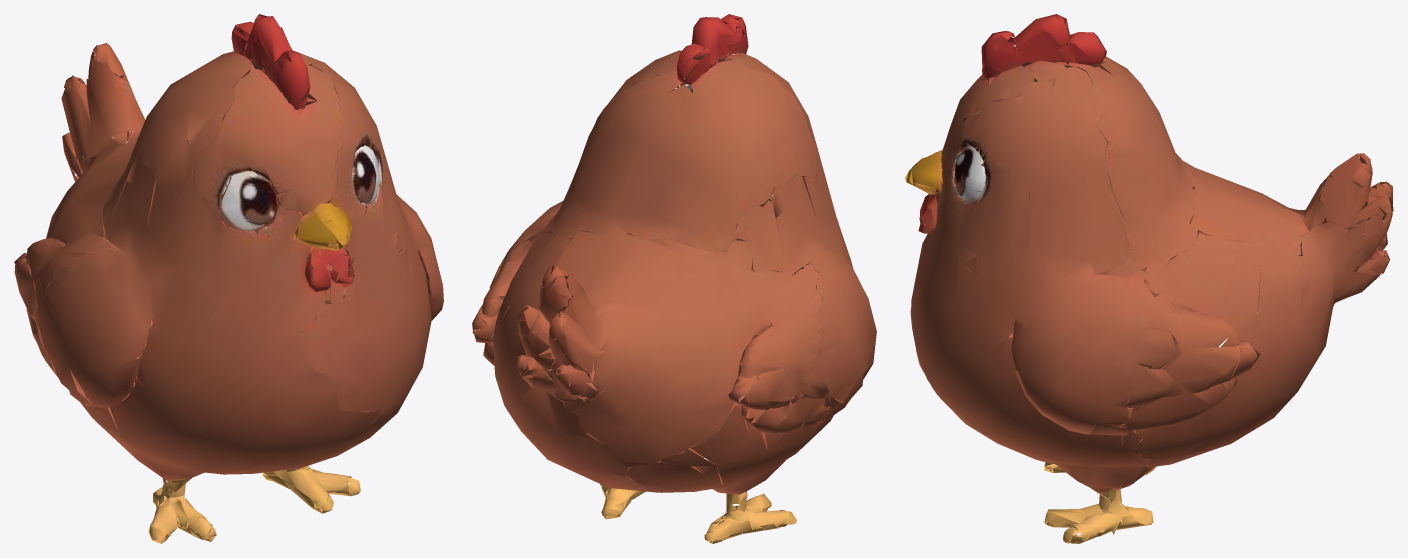
File: hen.glb
3 views of the same model, side by side, from view 1: azimuth 30°, elevation 25°; view 2: azimuth 150°, elevation 25°; view 3: azimuth 270°, elevation 25° (orthographic). The views are drawn at different scales.
Parts seen in each view (by area): view 1: model; view 2: model; view 3: model.
Boxes of the visible parts, x1,y1,x2,y2 form: model: [14, 14, 443, 543]; model: [472, 14, 876, 543]; model: [905, 14, 1393, 543].
Bounding box in the file's own units: 1.41 × 1.91 × 1.74.
Materials: 1 (1 with a texture image).
